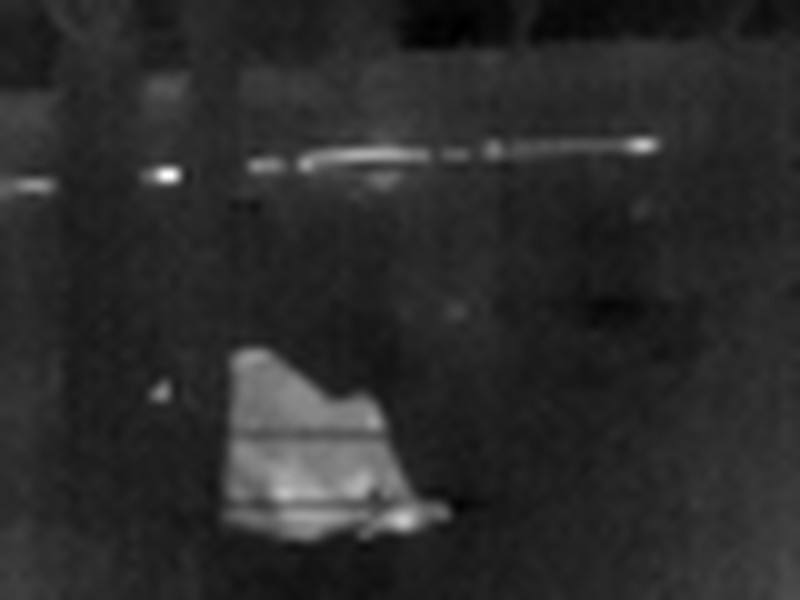elephant: (125, 338, 427, 548)
